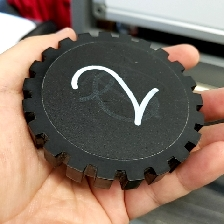gear: (20, 30, 206, 192)
